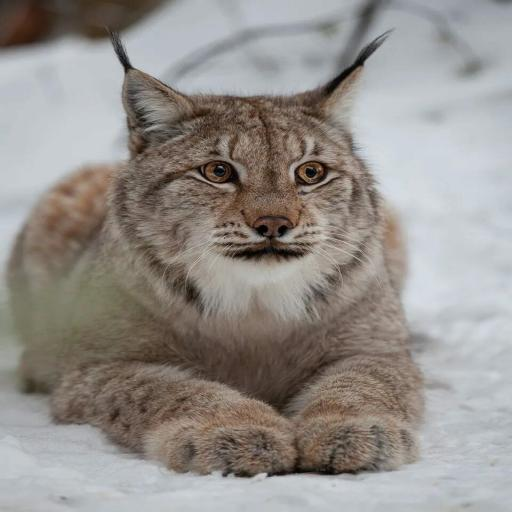lynx: (6, 31, 423, 476)
